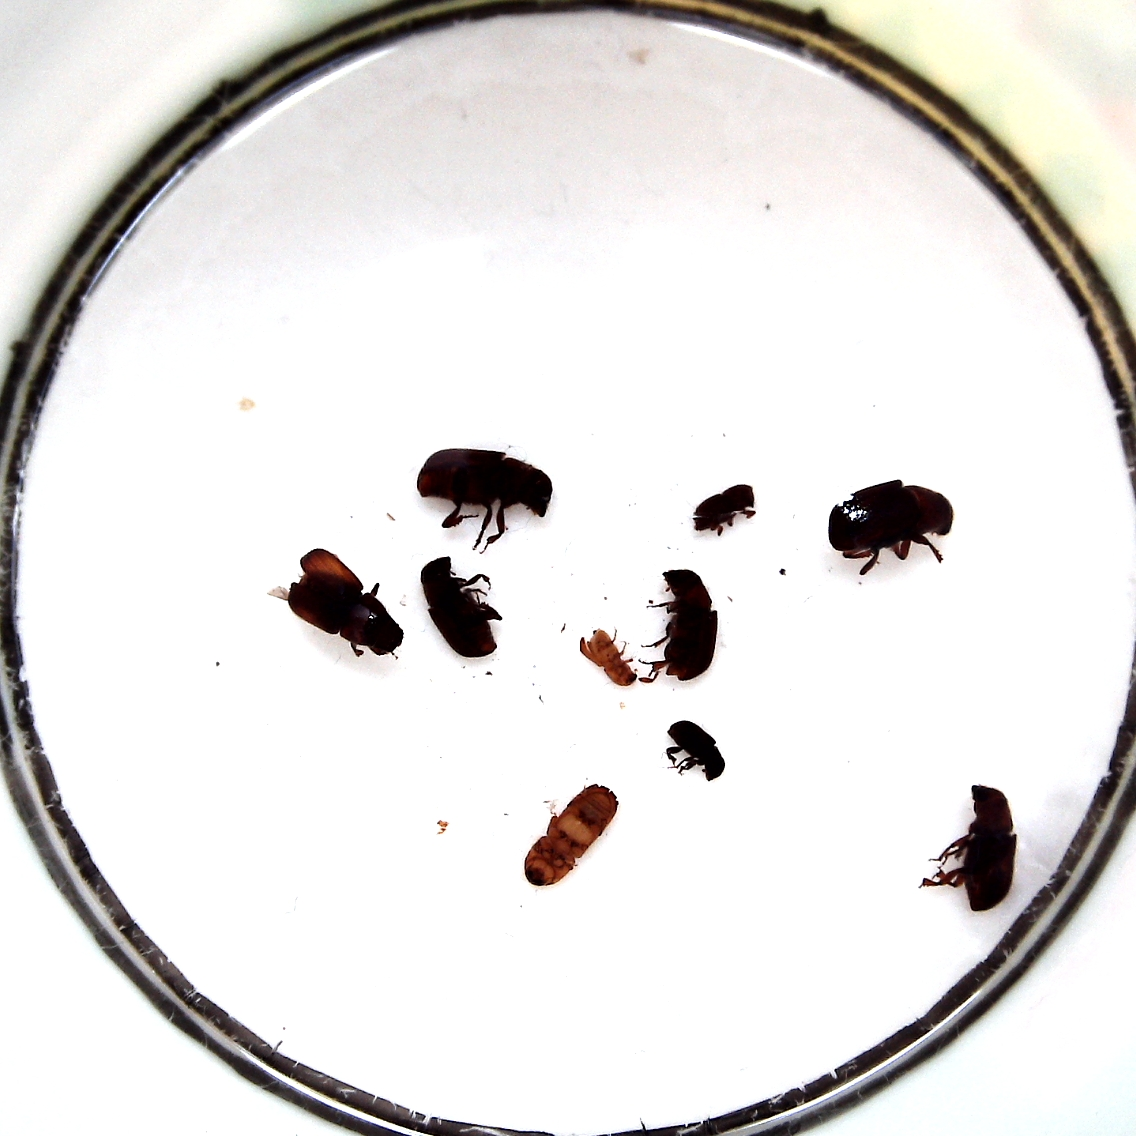Boerner: (519, 784, 619, 887)
Leconte: (416, 446, 556, 551), (287, 547, 404, 663), (915, 784, 1017, 912), (826, 477, 956, 571), (638, 567, 719, 688), (422, 556, 502, 664)
Linnaeus: (692, 485, 760, 535)
acuminatus: (575, 626, 641, 687)
armandi: (663, 720, 726, 779)
